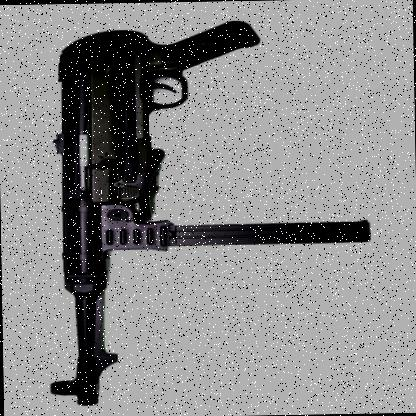rifle: (29, 14, 386, 411)
